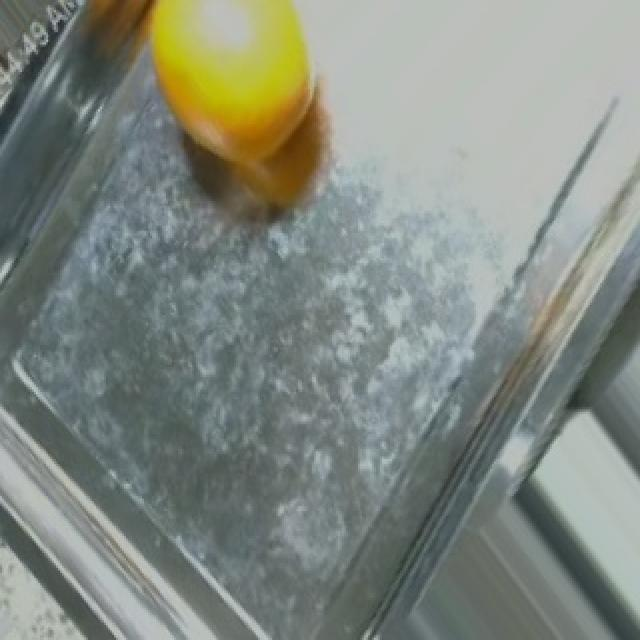Fruit: (128, 2, 364, 240)
